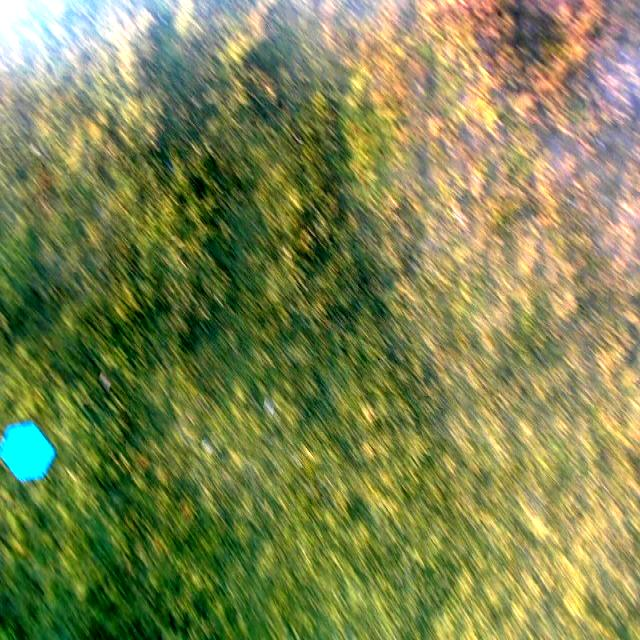blue_hexagon: (1, 422, 54, 482)
